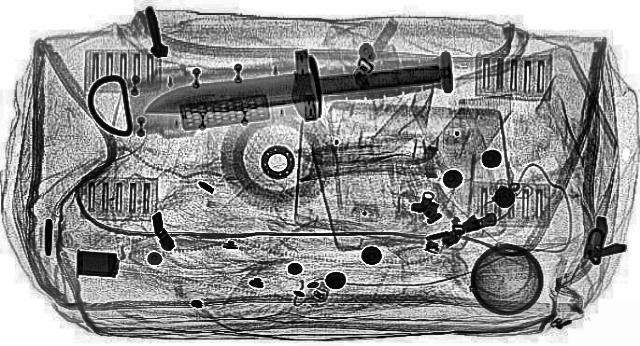Knife: (124, 32, 473, 140)
